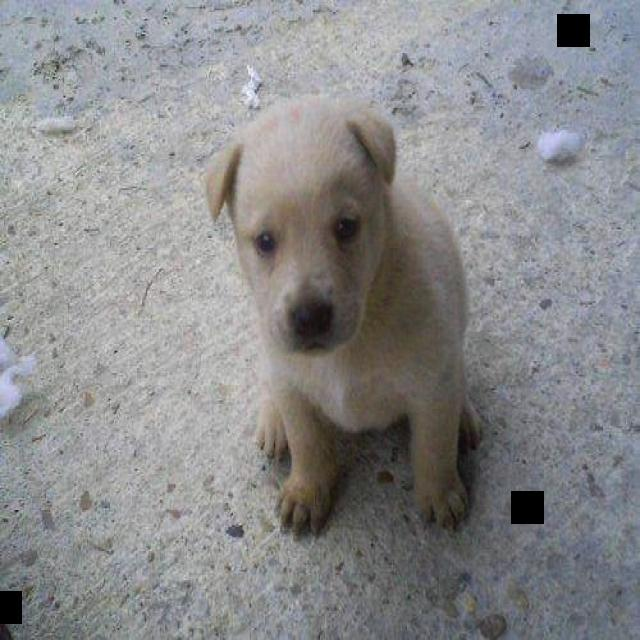puppy-dog: (203, 92, 487, 537)
